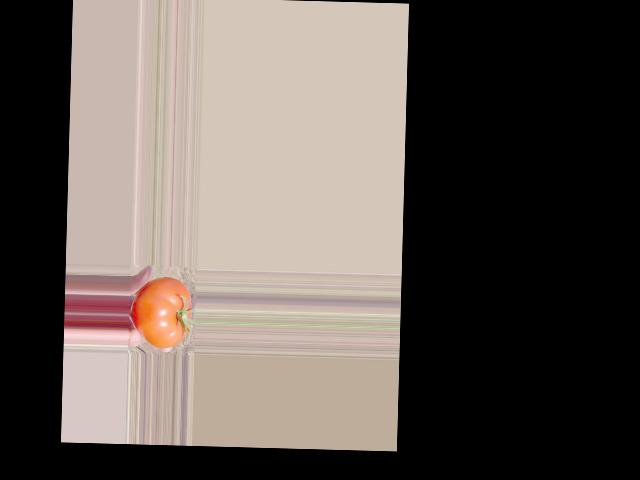tomato: (130, 277, 192, 349)
